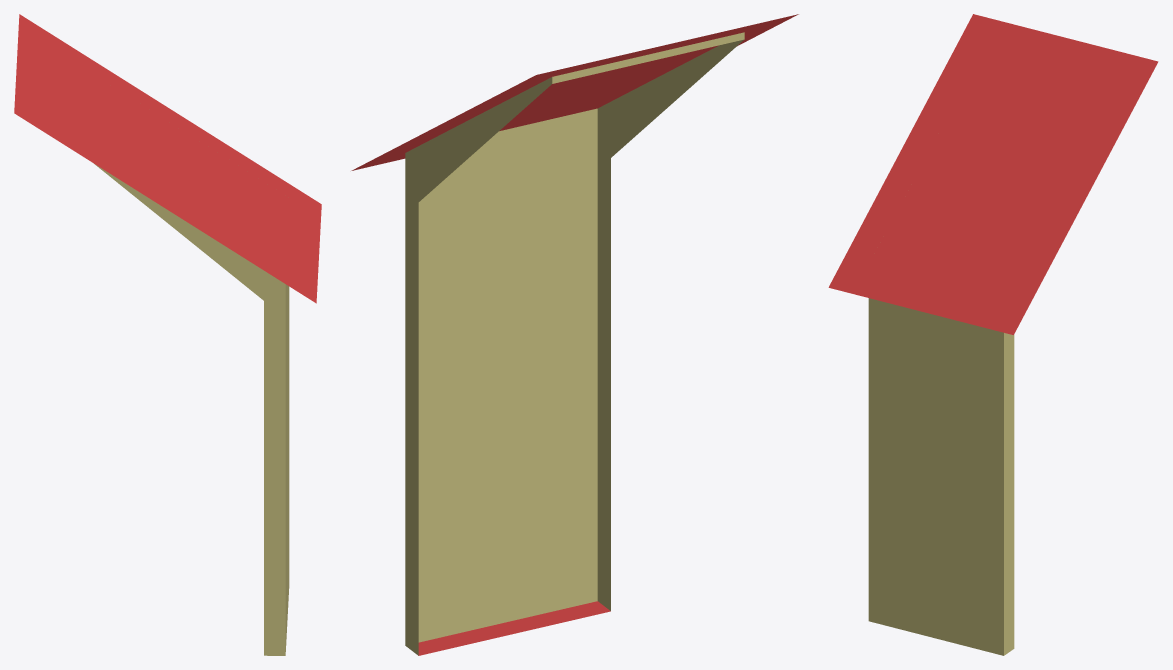
3 renders of one model, left to right at view 1: azimuth 30°, elevation 25°; view 2: azimuth 150°, elevation 25°; view 3: azimuth 270°, elevation 25°, orthographic. The views are drawn at different scales.
Size of the model in its own units: 9.01 by 8.48 by 14.46.
